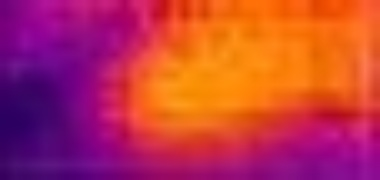Shadow: (1, 1, 148, 179), (206, 117, 380, 180)
